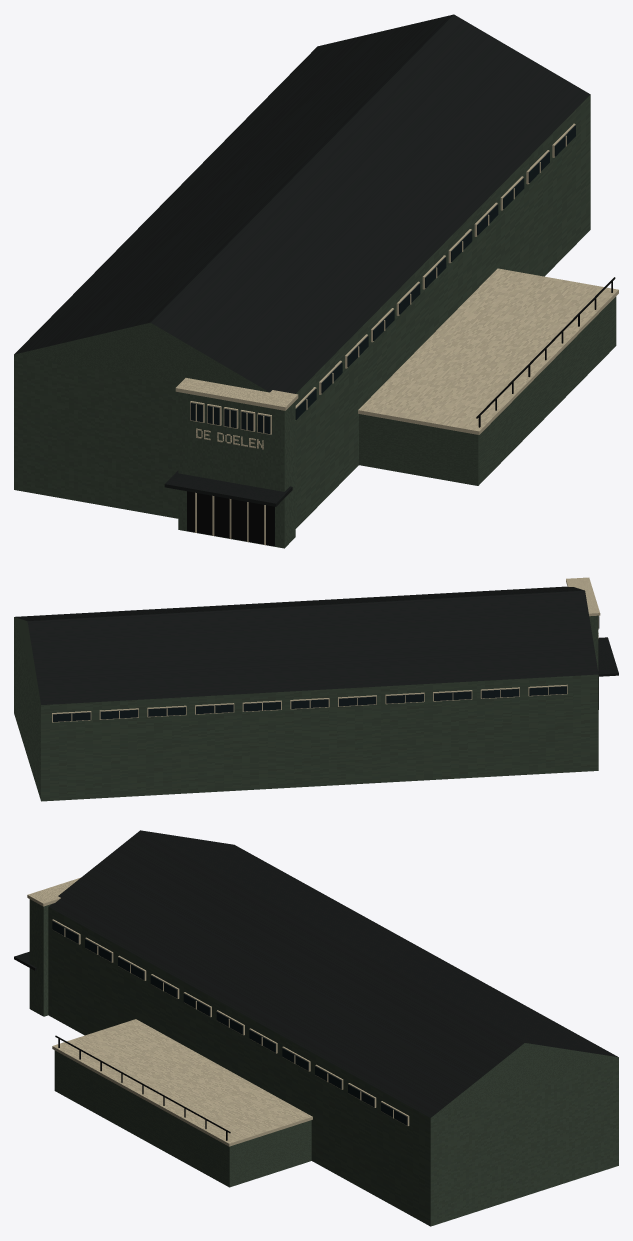
3 renders of one model, top to bottom at view 1: azimuth 30°, elevation 25°; view 2: azimuth 150°, elevation 25°; view 3: azimuth 270°, elevation 25°, orthographic. The views are drawn at different scales.
Visible parts, largest first — view 1: doelen-coolsingel-1, doelen-coolsingel-0, doelen-coolsingel-2, doelen-coolsingel-4, doelen-coolsingel-3; view 2: doelen-coolsingel-0, doelen-coolsingel-1, doelen-coolsingel-3, doelen-coolsingel-2; view 3: doelen-coolsingel-0, doelen-coolsingel-1, doelen-coolsingel-2, doelen-coolsingel-3, doelen-coolsingel-4.
Part boxes in pixels (x1=…): doelen-coolsingel-1: x1=14, y1=14, x2=590, y2=506; doelen-coolsingel-0: x1=14, y1=95, x2=616, y2=548; doelen-coolsingel-2: x1=175, y1=123, x2=618, y2=545; doelen-coolsingel-4: x1=187, y1=277, x2=615, y2=546; doelen-coolsingel-3: x1=190, y1=125, x2=575, y2=433; doelen-coolsingel-0: x1=14, y1=615, x2=598, y2=801; doelen-coolsingel-1: x1=15, y1=586, x2=618, y2=704; doelen-coolsingel-3: x1=53, y1=615, x2=599, y2=721; doelen-coolsingel-2: x1=52, y1=577, x2=600, y2=722; doelen-coolsingel-0: x1=29, y1=899, x2=618, y2=1226; doelen-coolsingel-1: x1=14, y1=830, x2=618, y2=1117; doelen-coolsingel-2: x1=27, y1=877, x2=409, y2=1146; doelen-coolsingel-3: x1=52, y1=921, x2=407, y2=1125; doelen-coolsingel-4: x1=55, y1=1035, x2=230, y2=1140.
Size of the model in its own units: 56.2 by 14.7 by 52.56.
Materials: 5 (5 with a texture image).
